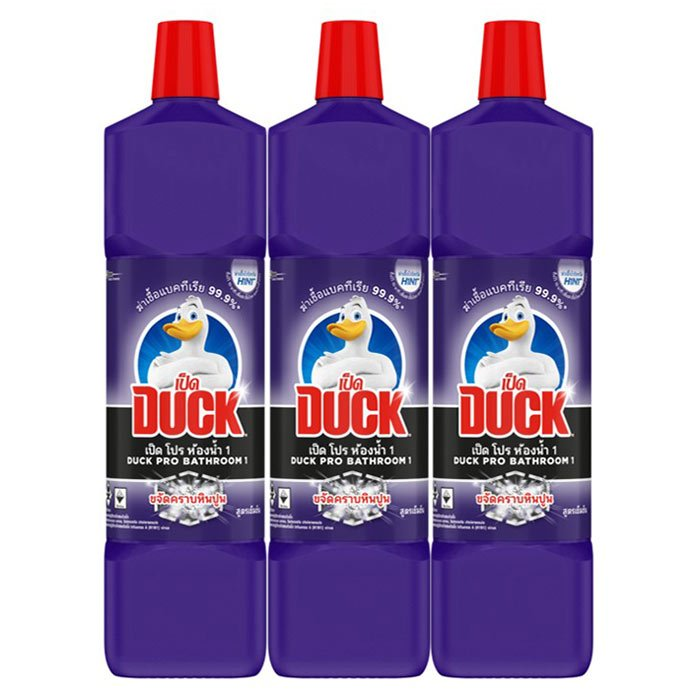Cleaning_solution: (430, 15, 602, 685), (100, 16, 267, 684), (267, 14, 432, 685)
